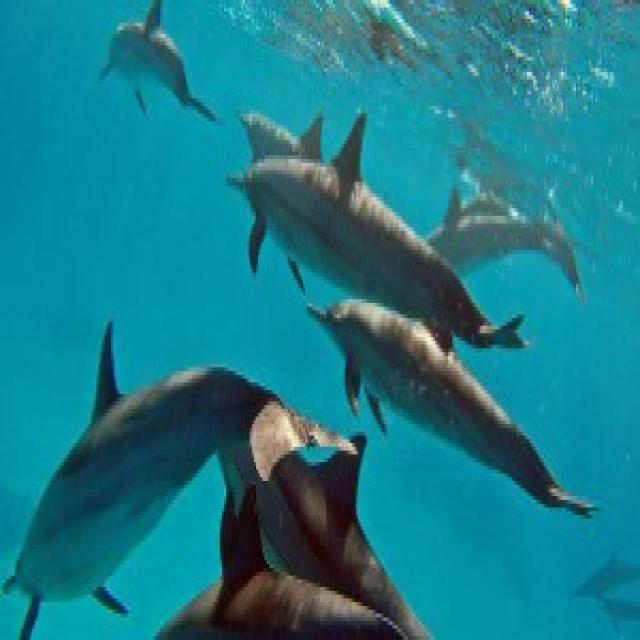Dolphin: (0, 303, 245, 640), (300, 282, 593, 503), (242, 85, 515, 321), (156, 503, 412, 640), (226, 401, 423, 532), (92, 0, 209, 137)
